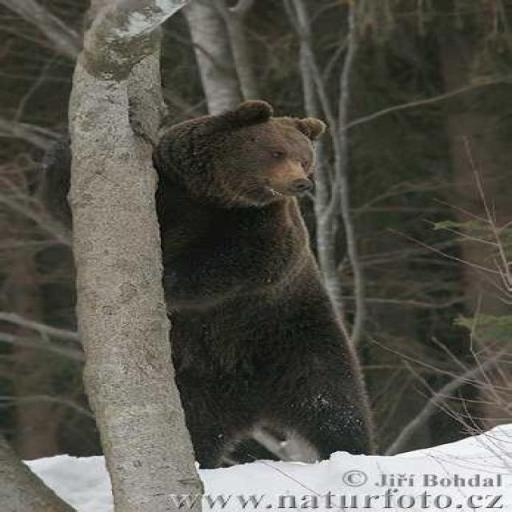Bear: (150, 98, 378, 469)
